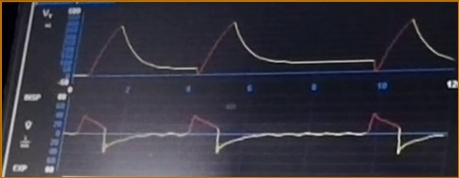Flow: (68, 110, 444, 170)
Leakage Volume: (82, 17, 454, 78)
